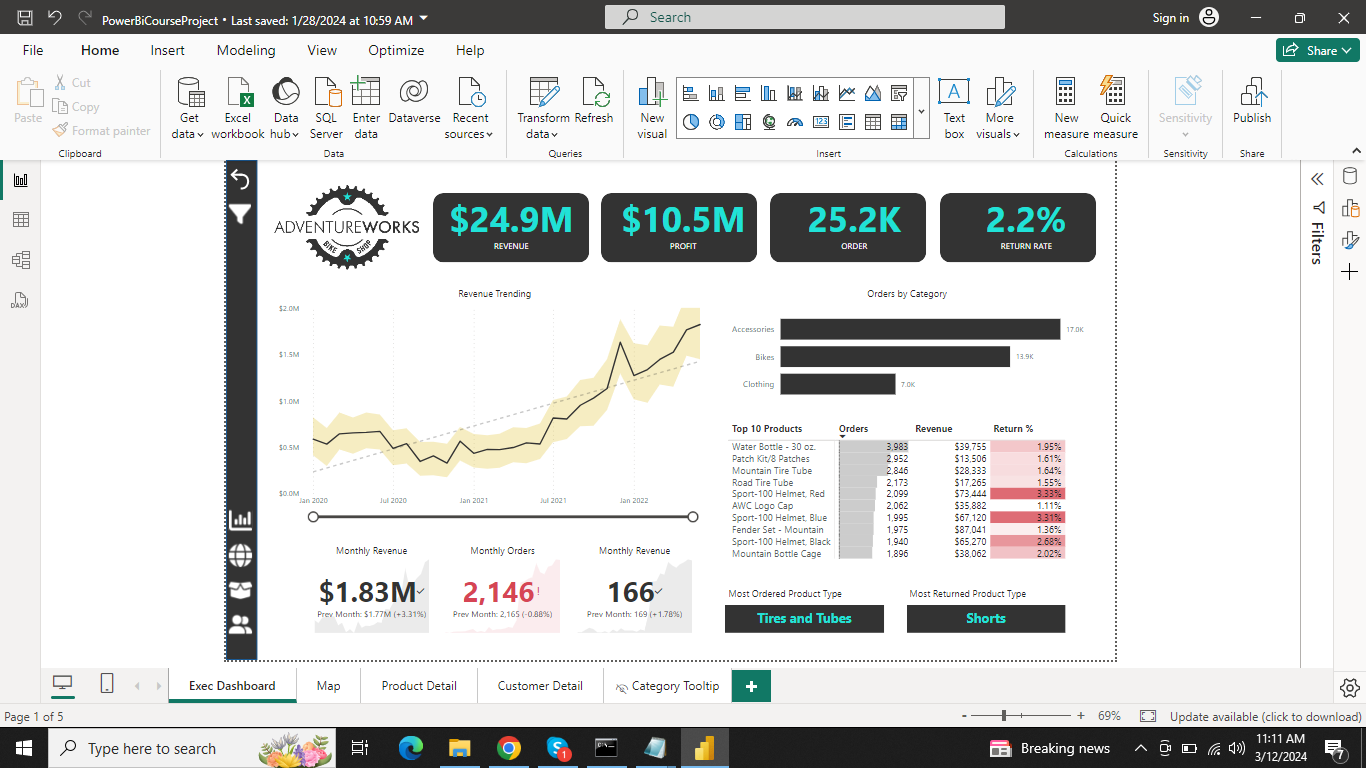

The dashboard page shown, as its layout file describes it:
{"tool":"powerbi","page":{"name":"Exec Dashboard","canvas":[1280,720],"ordinal":0},"visuals":[{"type":"image","title":"AW Logo","box":[41.2,0,266.2,193.8],"z":0},{"type":"card","fields":{"Values":["Measure Table.Total Revenue"]},"box":[308.7,35,202.5,112.5],"z":0,"group":"g2"},{"type":"group","id":"g1","title":"KPI Backgrounds","box":[297.5,47.5,955,100],"z":0,"group":"g3"},{"type":"shape","box":[297.5,47.5,225,100],"z":0,"group":"g1"},{"type":"actionButton","box":[0.6,497.5,45.2,41.6],"z":0,"group":"g4"},{"type":"shape","title":"Left Nav Background ","box":[0,0,45,720],"z":1000},{"type":"group","id":"g2","title":"KPI Values","box":[308.7,35,943.8,112.5],"z":1000,"group":"g3"},{"type":"card","fields":{"Values":["Measure Table.Total Profit"]},"box":[555.8,35,202.5,112.5],"z":1000,"group":"g2"},{"type":"shape","box":[538.7,47.5,225,100],"z":1000,"group":"g1"},{"type":"actionButton","box":[0.6,547.6,45.2,41.6],"z":1000,"group":"g4"},{"type":"group","id":"g3","title":"KPIs","box":[297.5,35,955,112.5],"z":2000},{"type":"card","fields":{"Values":["Measure Table.Total Orders"]},"box":[802.9,35,202.5,112.5],"z":2000,"group":"g2"},{"type":"shape","box":[782.5,47.5,225,100],"z":2000,"group":"g1"},{"type":"actionButton","box":[0.6,597.7,45.2,41.6],"z":2000,"group":"g4"},{"type":"card","fields":{"Values":["Measure Table.Return Rate"]},"box":[1049.9,35,202.5,112.5],"z":3000,"group":"g2"},{"type":"shape","box":[1027.5,47.5,225,100],"z":3000,"group":"g1"},{"type":"lineChart","title":"Revenue Trending","fields":{"Y":["Measure Table.Total Revenue"],"Category":["Calendar Lookup.Start of Month"]},"box":[70.9,183.4,633,342],"z":3000},{"type":"actionButton","box":[0.6,647.9,45.2,41.6],"z":3000,"group":"g4"},{"type":"kpi","title":"Monthly Revenue","fields":{"Indicator":["Measure Table.Total Revenue"],"TrendLine":["Calendar Lookup.Start of Month"],"Goal":["Measure Table.Previous Month Revenue"]},"box":[122.2,552.5,174.8,133.2],"z":4000},{"type":"kpi","title":"Monthly Orders","fields":{"TrendLine":["Calendar Lookup.Start of Month"],"Indicator":["Measure Table.Total Orders"],"Goal":["Measure Table.Previous Month Orders"]},"box":[311.7,552.5,174.8,133.2],"z":5000},{"type":"kpi","title":"Monthly Revenue","fields":{"TrendLine":["Calendar Lookup.Start of Month"],"Indicator":["Measure Table.Total Returns"],"Goal":["Measure Table.Previous Month Returns"]},"box":[501.2,552.5,174.8,133.2],"z":6000},{"type":"clusteredBarChart","title":"Orders by Category","fields":{"Category":["Product Category Lookup.CategoryName"],"Y":["Measure Table.Total Orders"]},"box":[718.8,183.4,524.4,177.2],"z":7000},{"type":"pivotTable","fields":{"Rows":["Product Lookup.ProductName"],"Values":["Measure Table.Total Orders","Measure Table.Total Revenue","Measure Table.Return Rate"]},"box":[718.8,372.8,497.5,218.8],"z":8000},{"type":"card","fields":{"Values":["Min(Product Subcategory Lookup.SubcategoryName)"]},"box":[718.8,640.5,228.6,40.3],"z":9000},{"type":"textbox","box":[718.8,610,190.7,30.6],"z":10000},{"type":"card","fields":{"Values":["Min(Product Subcategory Lookup.SubcategoryName)"]},"box":[981,640.5,228,40],"z":11000},{"type":"textbox","box":[979,610,190.7,30.6],"z":12000},{"type":"actionButton","box":[0,7.3,45.2,40.3],"z":13000},{"type":"group","id":"g4","title":"Navigation Buttons","box":[0.6,497.5,45.2,191.9],"z":14000},{"type":"actionButton","box":[0,57.5,41.6,40.3],"z":15000}]}

Visuals, with their boxes on the page's 1280x720 design canvas (x1, y1, x2, y2). These are canvas units, not pixel positions in the 1366x768 screenshot, which may show the page scaled, cropped or inside an application window:
"AW Logo" image: [left=41, top=0, right=307, bottom=194]
card - Measure Table.Total Revenue: [left=309, top=35, right=511, bottom=148]
"KPI Backgrounds" group: [left=298, top=48, right=1252, bottom=148]
shape: [left=298, top=48, right=522, bottom=148]
actionButton: [left=1, top=498, right=46, bottom=539]
"Left Nav Background " shape: [left=0, top=0, right=45, bottom=720]
"KPI Values" group: [left=309, top=35, right=1252, bottom=148]
card - Measure Table.Total Profit: [left=556, top=35, right=758, bottom=148]
shape: [left=539, top=48, right=764, bottom=148]
actionButton: [left=1, top=548, right=46, bottom=589]
"KPIs" group: [left=298, top=35, right=1252, bottom=148]
card - Measure Table.Total Orders: [left=803, top=35, right=1005, bottom=148]
shape: [left=782, top=48, right=1008, bottom=148]
actionButton: [left=1, top=598, right=46, bottom=639]
card - Measure Table.Return Rate: [left=1050, top=35, right=1252, bottom=148]
shape: [left=1028, top=48, right=1252, bottom=148]
"Revenue Trending" lineChart: [left=71, top=183, right=704, bottom=525]
actionButton: [left=1, top=648, right=46, bottom=690]
"Monthly Revenue" kpi: [left=122, top=552, right=297, bottom=686]
"Monthly Orders" kpi: [left=312, top=552, right=486, bottom=686]
"Monthly Revenue" kpi: [left=501, top=552, right=676, bottom=686]
"Orders by Category" clusteredBarChart: [left=719, top=183, right=1243, bottom=361]
pivotTable - Product Lookup.ProductName x Measure Table.Total Orders: [left=719, top=373, right=1216, bottom=592]
card - Min(Product Subcategory Lookup.SubcategoryName): [left=719, top=640, right=947, bottom=681]
textbox: [left=719, top=610, right=910, bottom=641]
card - Min(Product Subcategory Lookup.SubcategoryName): [left=981, top=640, right=1209, bottom=680]
textbox: [left=979, top=610, right=1170, bottom=641]
actionButton: [left=0, top=7, right=45, bottom=48]
"Navigation Buttons" group: [left=1, top=498, right=46, bottom=689]
actionButton: [left=0, top=58, right=42, bottom=98]
